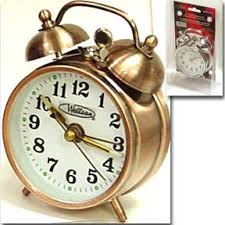alarm_clock: (1, 5, 168, 220)
